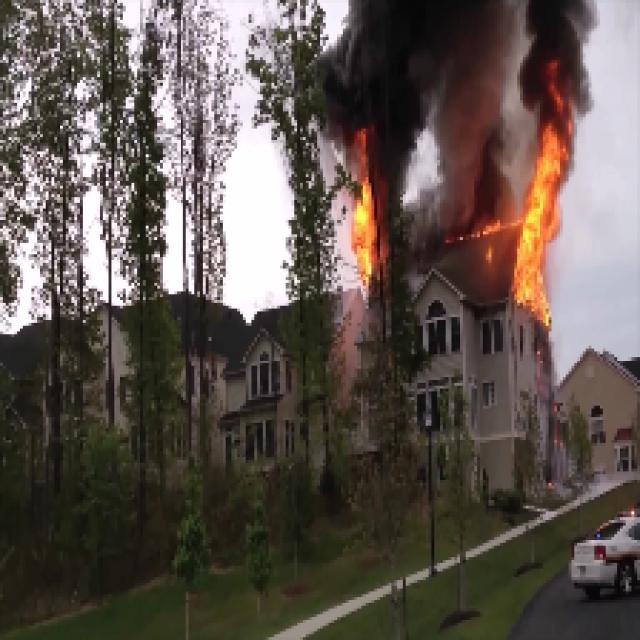fire: (520, 127, 562, 326), (346, 175, 379, 299)
smoke: (319, 1, 600, 121), (392, 128, 506, 286)
